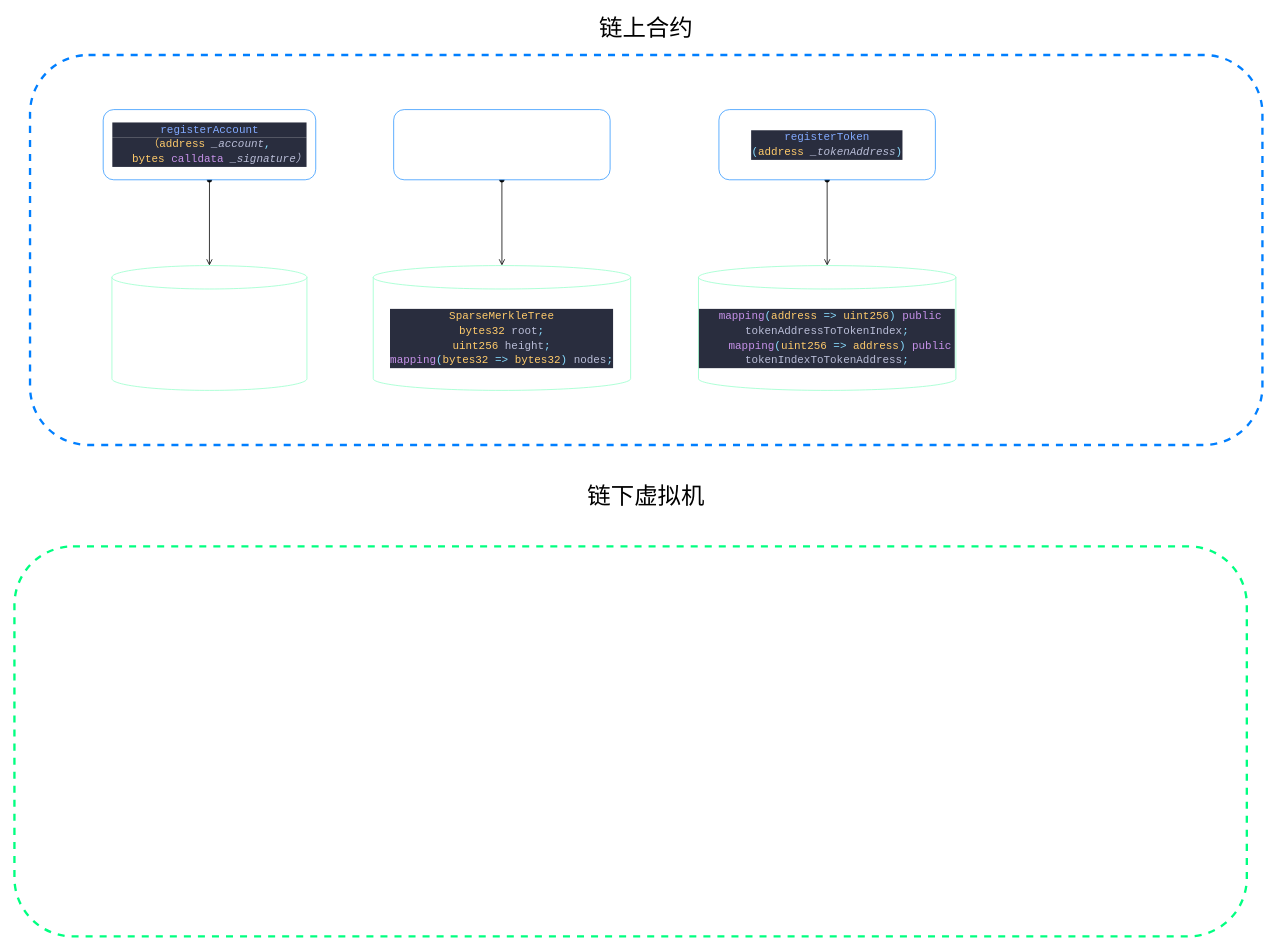
The diagram is 1277 pixels wide and 951 high, and some of its shapes have lost their labels. Each missing label, with the centre of its shape:
getMerkleRoot （ bytes [] calldata _dataBlocks ）: pixel 501 144
registeredAccounts mapping ( address => bool ): pixel 209 327
